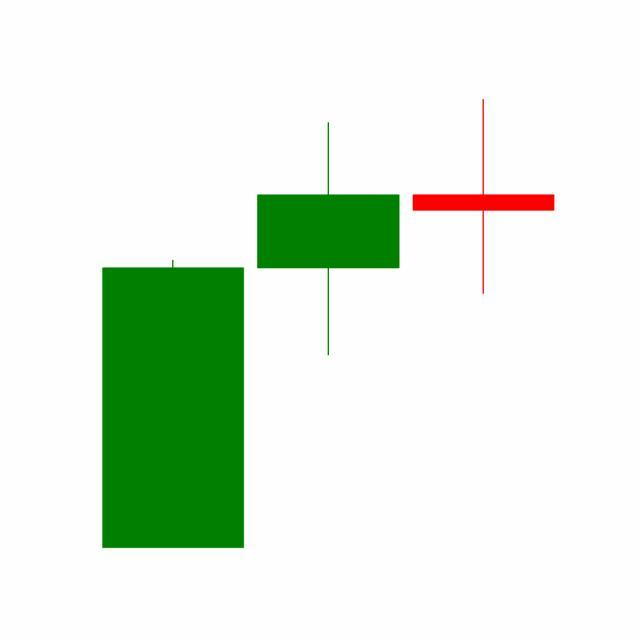Spinning Top: (406, 98, 562, 297)
